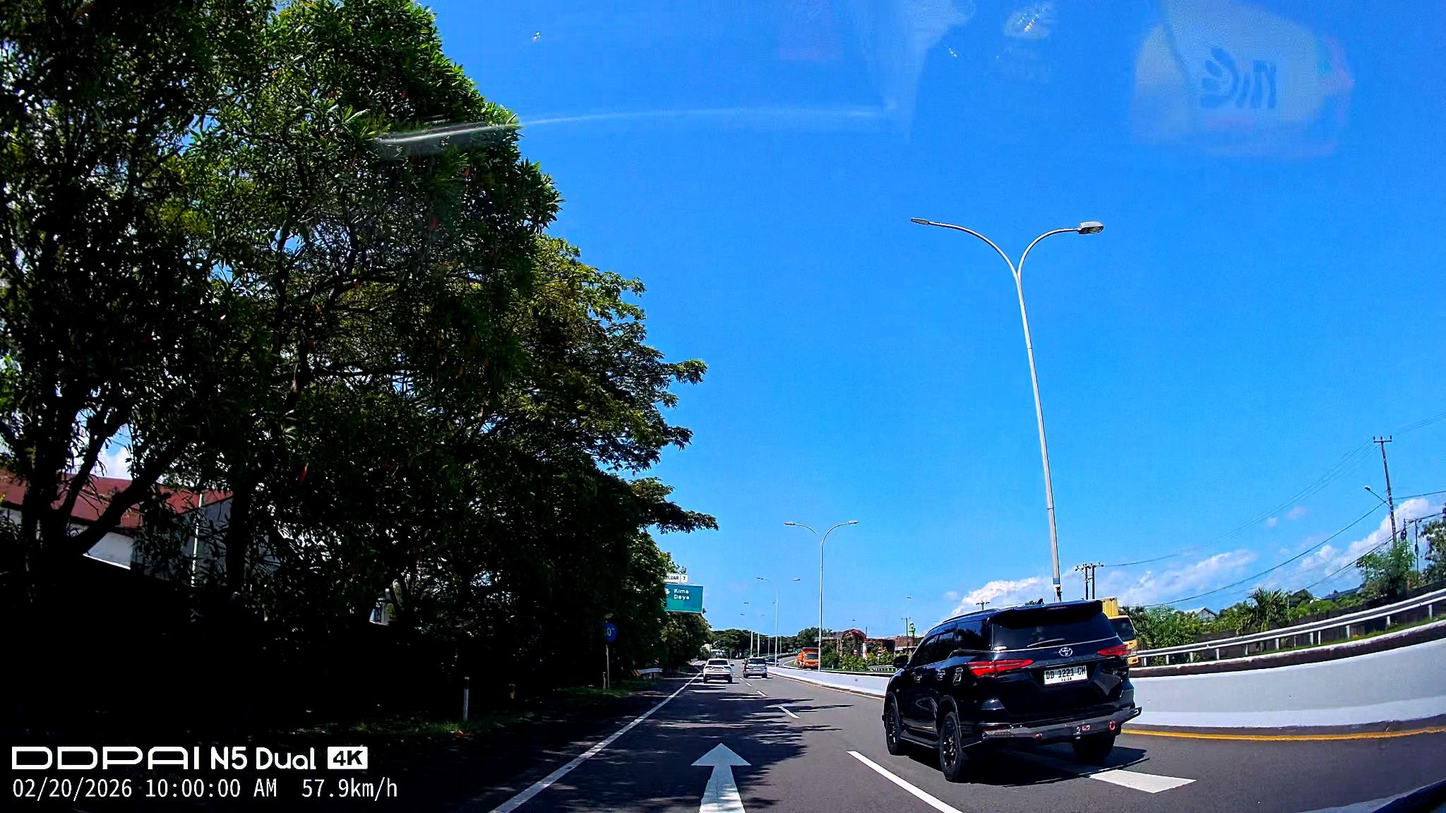rambu_teks: (664, 583, 703, 613)
